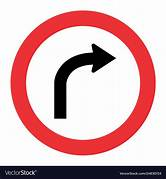right: (9, 10, 157, 154)
